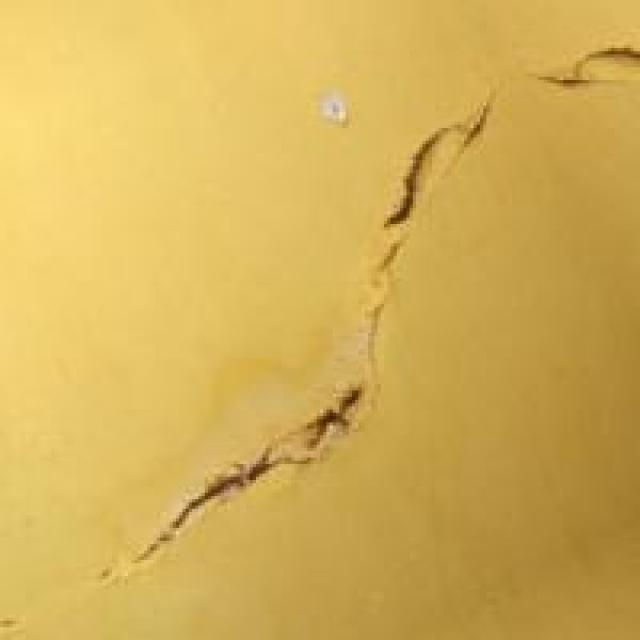Crack: (112, 42, 637, 573)
